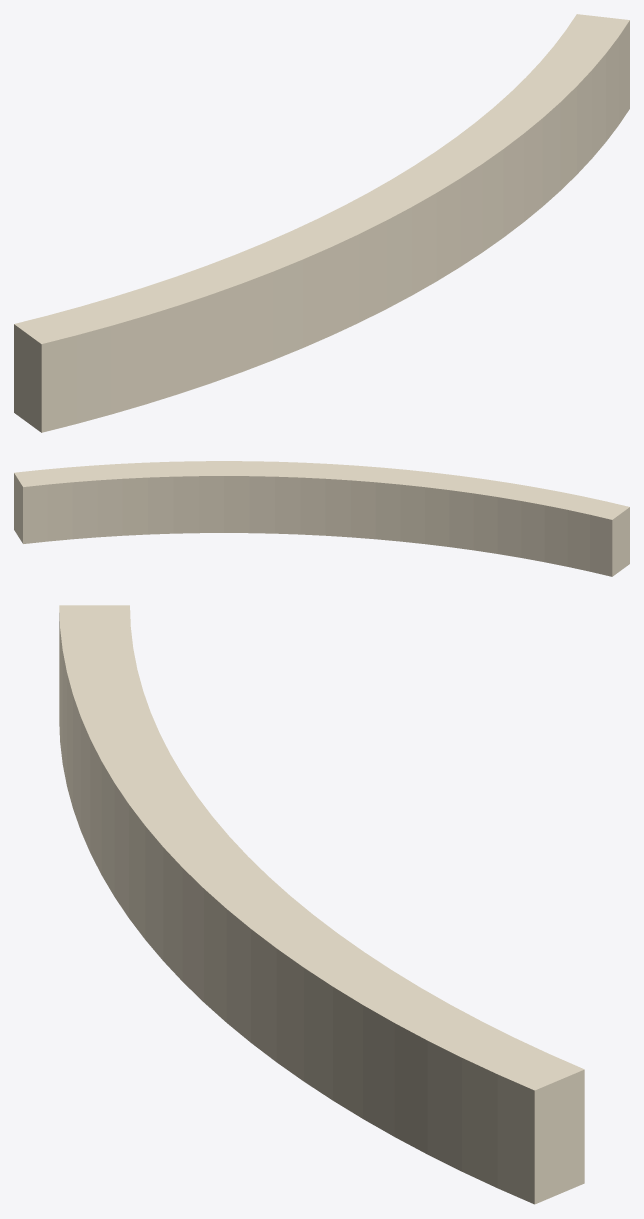
Rendered from ArcBand_R2_A45.glb.
3 views of the same model, one above another, from view 1: azimuth 30°, elevation 25°; view 2: azimuth 150°, elevation 25°; view 3: azimuth 270°, elevation 25° (orthographic). The views are drawn at different scales.
Parts seen in each view (by area): view 1: PBK_Band.006; view 2: PBK_Band.006; view 3: PBK_Band.006.
Part boxes in pixels (bbox=[...]): PBK_Band.006: bbox=[14, 14, 629, 432]; PBK_Band.006: bbox=[14, 461, 629, 576]; PBK_Band.006: bbox=[59, 605, 584, 1204].
Bounding box in the file's own units: 1.46 × 0.16 × 0.6685.
